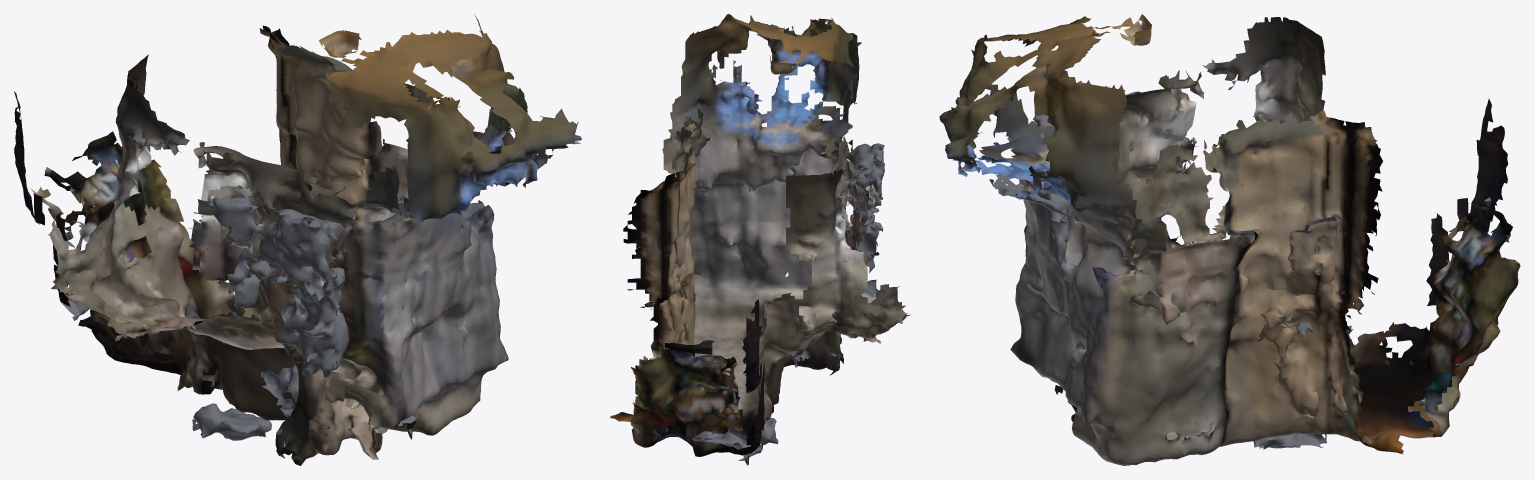
Rendered from 20230226_180030_Converted.fbx.
The picture shows the model from 3 angles, left to right: view 1: azimuth 30°, elevation 25°; view 2: azimuth 150°, elevation 25°; view 3: azimuth 270°, elevation 25°; orthographic projection. The views are drawn at different scales.
Visible parts, largest first — view 1: 20230226_180030; view 2: 20230226_180030; view 3: 20230226_180030.
Boxes of the visible parts, left/top/right/bottom form: 20230226_180030: left=14, top=14, right=581, bottom=465; 20230226_180030: left=610, top=14, right=910, bottom=465; 20230226_180030: left=939, top=14, right=1520, bottom=465.
Bounding box in the file's own units: 313 × 359 × 420.
